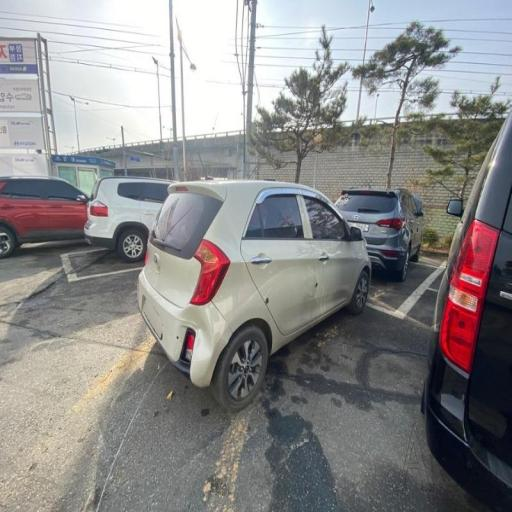dent: (164, 283, 228, 404), (245, 262, 310, 293)
